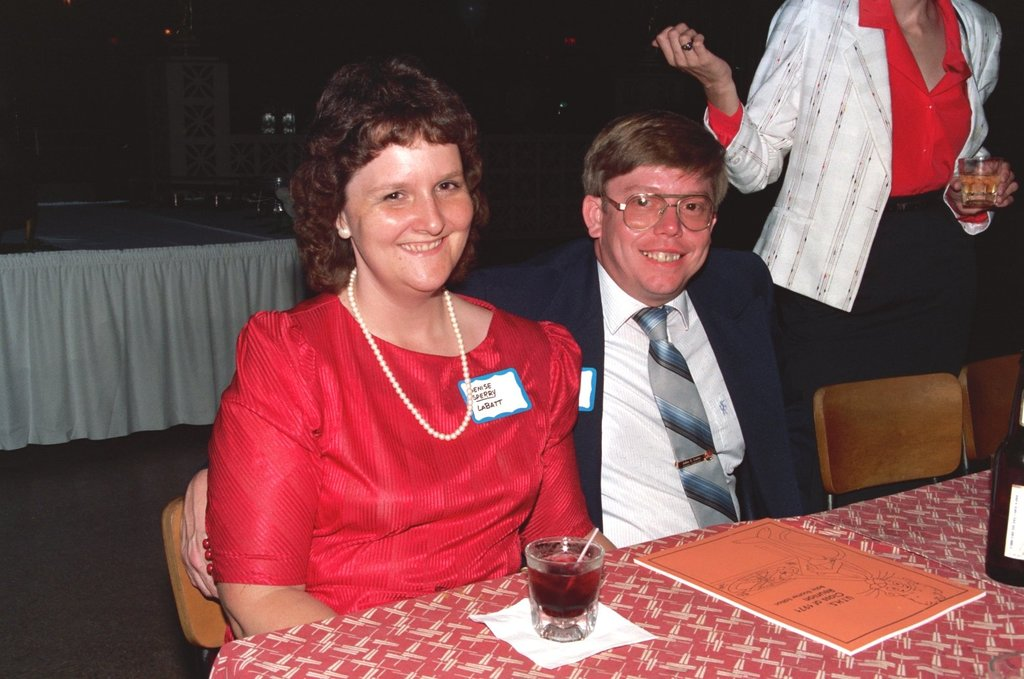Human-face: (343, 134, 475, 293), (604, 164, 711, 289)
